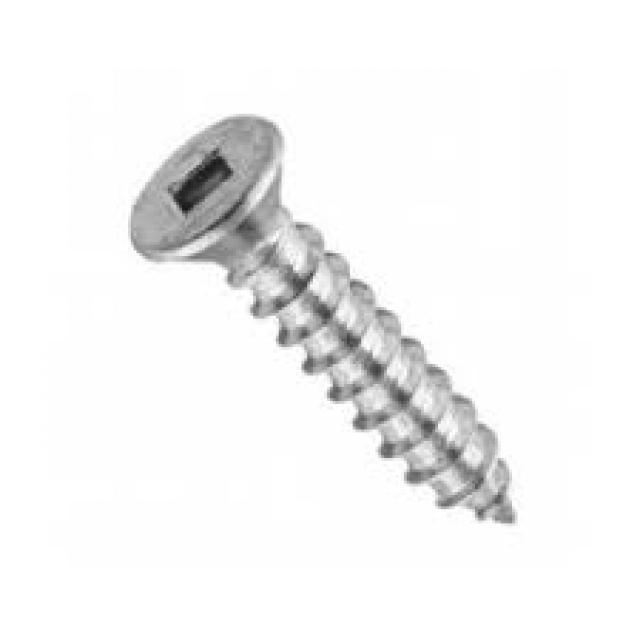Screw: (128, 117, 515, 526)
